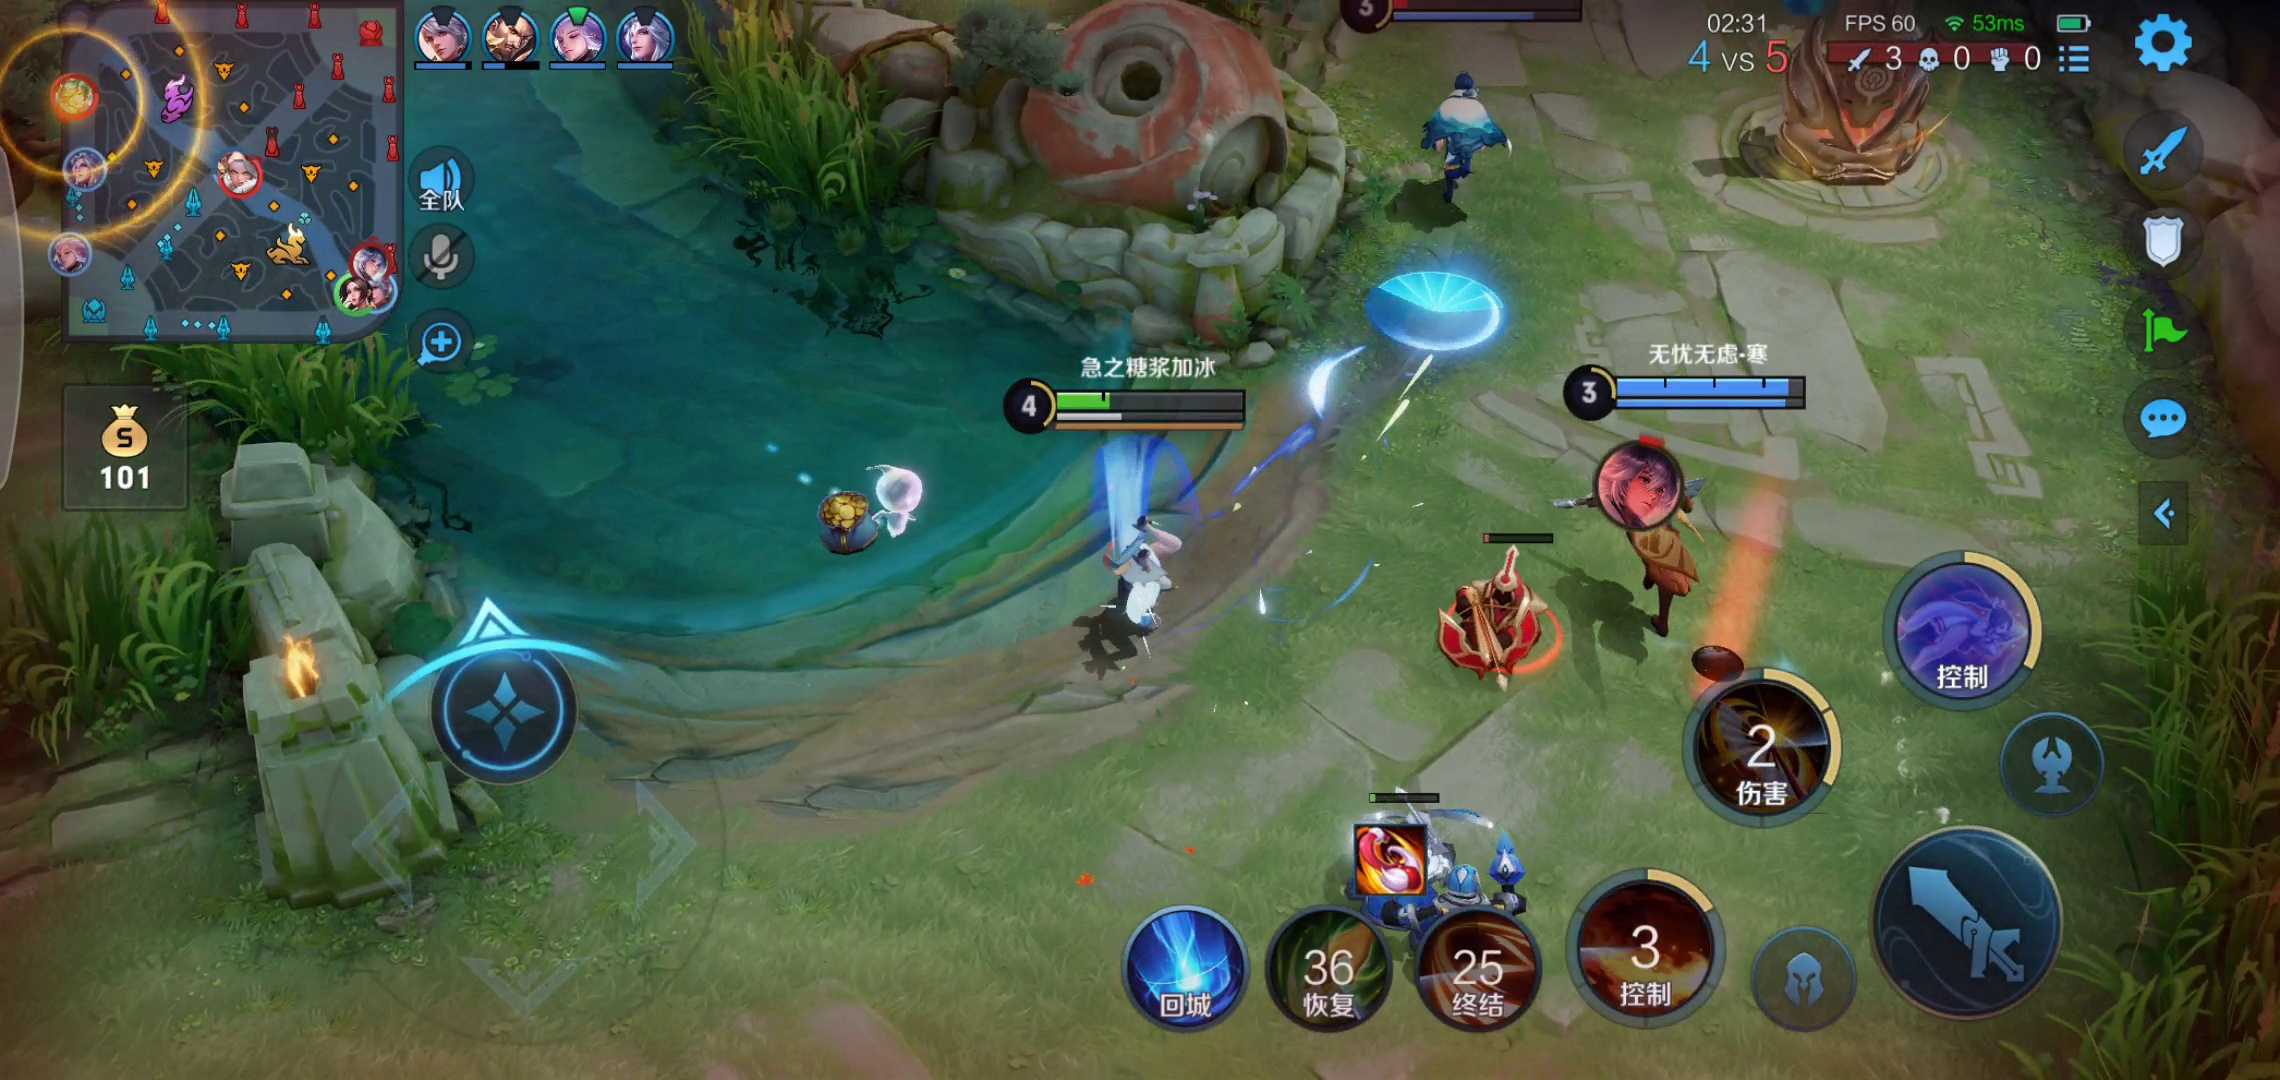grass: (2058, 565, 2264, 1080), (1, 533, 286, 757), (665, 17, 915, 260), (135, 308, 468, 464)
hero: (1069, 478, 1207, 664), (1597, 454, 1746, 612), (1399, 60, 1531, 219)
soldier: (1360, 794, 1522, 956), (1440, 554, 1588, 685)
tower: (1738, 1, 1973, 211)
